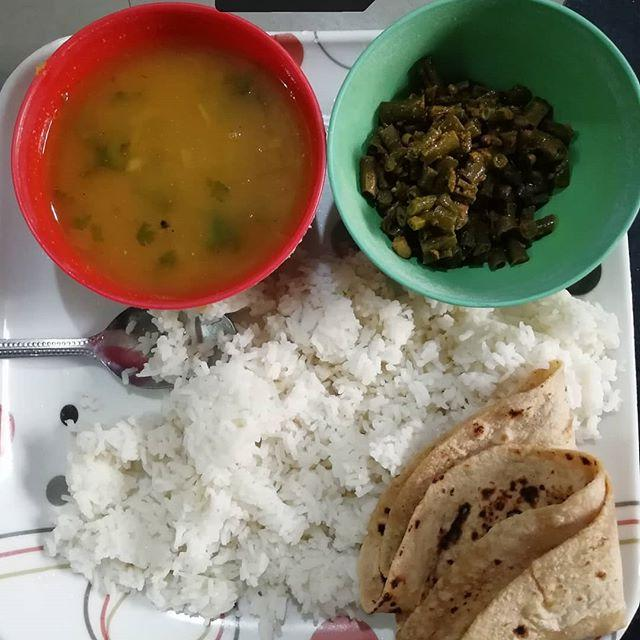Roti: (362, 400, 621, 640)
White Rice: (66, 270, 604, 595)
